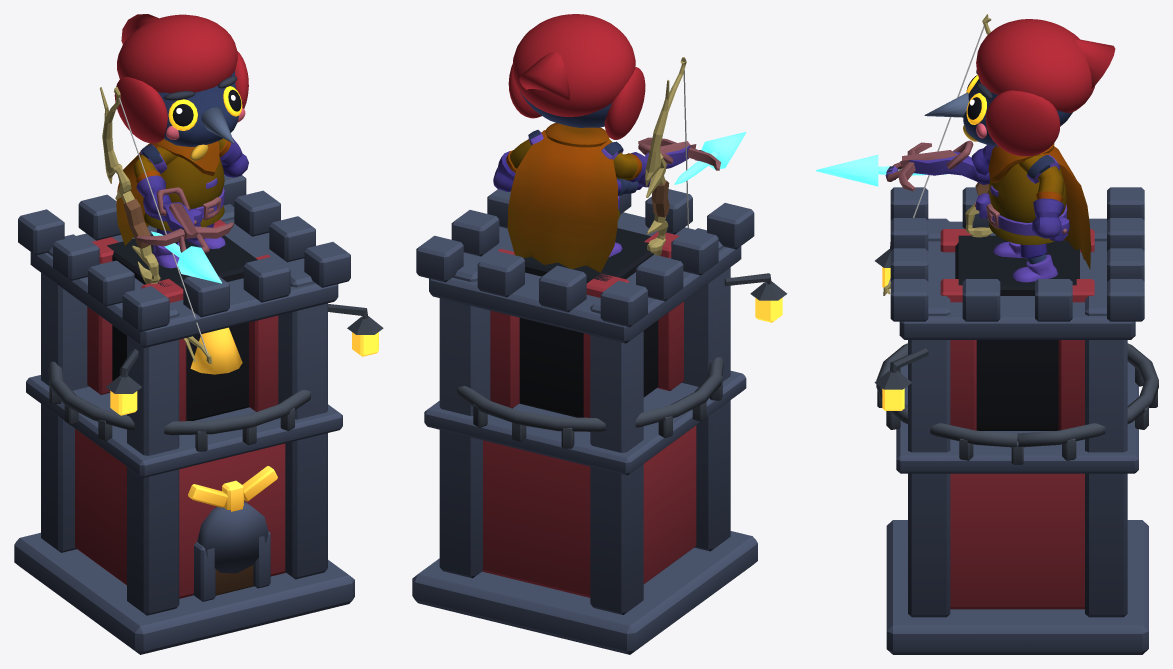
File: tower_falcon_t1.glb
3 renders of one model, left to right at view 1: azimuth 30°, elevation 25°; view 2: azimuth 150°, elevation 25°; view 3: azimuth 270°, elevation 25°, orthographic. The views are drawn at different scales.
Visible parts, largest first — view 1: CustomTowerBase_falcon_t1, NativeHat_RvHoodTop, Rogue_Body, Bow_Golden, NativeHat_RvHoodFlap_-1, 1H_Crossbow, RvHead, Rogue_ArmRight, RavenLightningTip, Rogue_Cape, Rogue_ArmLeft, RvBeak; view 2: CustomTowerBase_falcon_t1, Rogue_Cape, NativeHat_RvHoodTop, Bow_Golden, NativeHat_RvHoodFlap_-1, 1H_Crossbow, NativeHat_RvHoodPeak, Rogue_Body, Rogue_ArmRight, Rogue_ArmLeft, RvHead, RavenLightningTip (+1 smaller); view 3: CustomTowerBase_falcon_t1, NativeHat_RvHoodTop, Rogue_Body, NativeHat_RvHoodFlap_1, 1H_Crossbow, Rogue_ArmLeft, Rogue_Cape, Rogue_LegLeft, RavenLightningTip, Bow_Golden, NativeHat_RvHoodPeak, RvHead (+1 smaller).
Part boxes in pixels (x1,y1,x2,y2): CustomTowerBase_falcon_t1: (14, 174, 383, 654); NativeHat_RvHoodTop: (117, 14, 237, 93); Rogue_Body: (144, 139, 224, 231); Bow_Golden: (100, 87, 212, 363); NativeHat_RvHoodFlap_-1: (114, 77, 167, 143); 1H_Crossbow: (136, 187, 233, 253); RvHead: (158, 70, 238, 146); Rogue_ArmRight: (133, 144, 177, 216); RavenLightningTip: (177, 246, 221, 283); Rogue_Cape: (116, 143, 159, 245); Rogue_ArmLeft: (218, 138, 248, 177); RvBeak: (201, 107, 234, 143); CustomTowerBase_falcon_t1: (412, 189, 787, 654); Rogue_Cape: (507, 130, 617, 272); NativeHat_RvHoodTop: (512, 14, 635, 117); Bow_Golden: (645, 57, 688, 255); NativeHat_RvHoodFlap_-1: (604, 67, 645, 139); 1H_Crossbow: (616, 137, 720, 195); NativeHat_RvHoodPeak: (519, 51, 569, 100); Rogue_Body: (545, 123, 620, 220); Rogue_ArmRight: (601, 139, 650, 187); Rogue_ArmLeft: (493, 130, 543, 191); RvHead: (520, 91, 611, 127); RavenLightningTip: (701, 132, 746, 169); CustomTowerBase_falcon_t1: (874, 187, 1158, 654); NativeHat_RvHoodTop: (976, 19, 1094, 113); Rogue_Body: (974, 143, 1069, 244); NativeHat_RvHoodFlap_1: (985, 90, 1060, 156); 1H_Crossbow: (885, 140, 990, 191); Rogue_ArmLeft: (1019, 154, 1064, 238); Rogue_Cape: (1040, 146, 1090, 269); Rogue_LegLeft: (1012, 243, 1057, 282); RavenLightningTip: (816, 154, 878, 186); Bow_Golden: (883, 14, 992, 295); NativeHat_RvHoodPeak: (1075, 39, 1115, 88); RvHead: (963, 79, 1072, 146).
Bounding box in the file's own units: 0.9784 × 1.94 × 1.05.
Materials: 15 (3 with a texture image).
